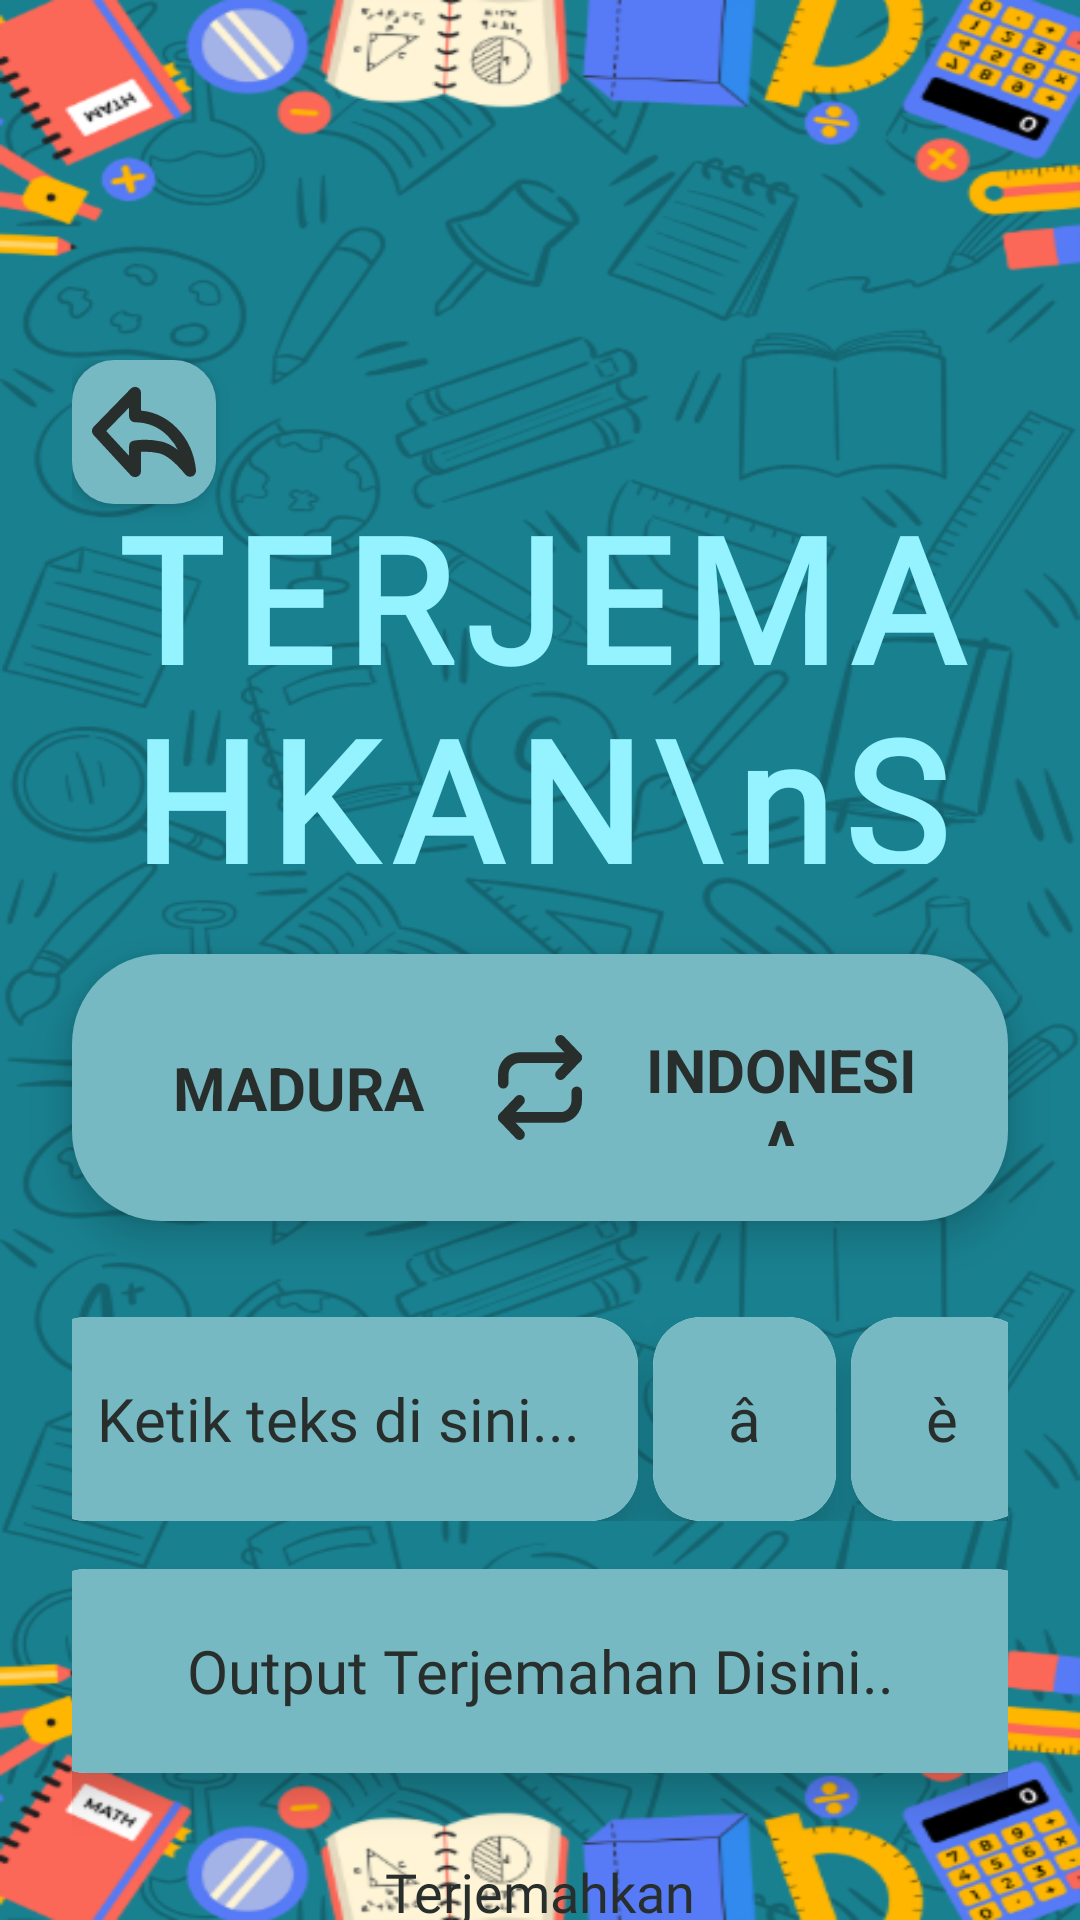

Named icons in this screenshot (1080px×1920px) and their centers, point (x, y):
Back: point (144, 432)
Swap Languages: point (540, 1087)
